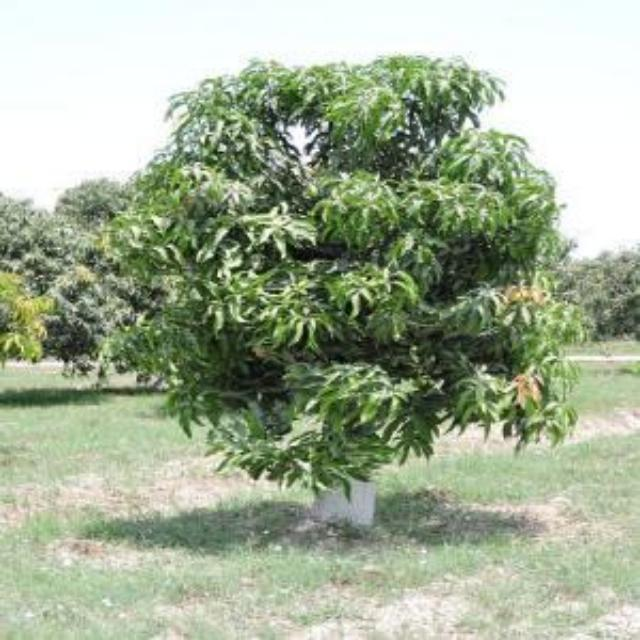tree: (113, 43, 582, 525)
